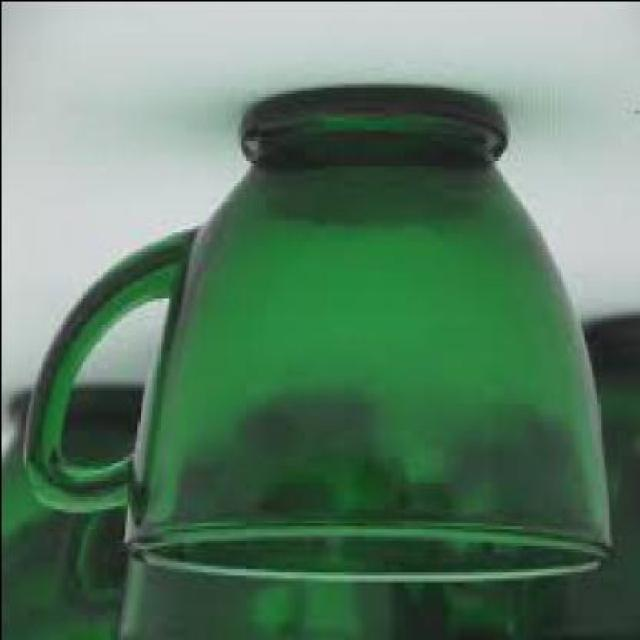GLASS: (25, 88, 612, 581)
